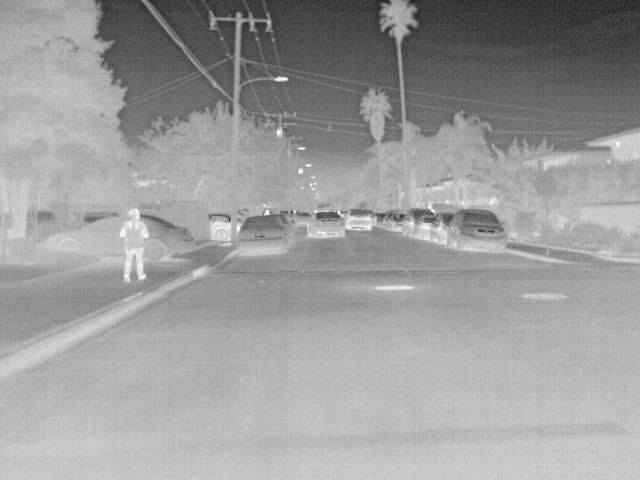car: (39, 214, 127, 258), (448, 207, 513, 255), (234, 212, 290, 260), (140, 213, 196, 259), (305, 211, 347, 238), (402, 206, 433, 238), (346, 207, 376, 232), (433, 211, 453, 244), (211, 211, 231, 240), (415, 216, 436, 243), (293, 211, 314, 231), (389, 212, 410, 231)
person: (119, 208, 151, 280)
